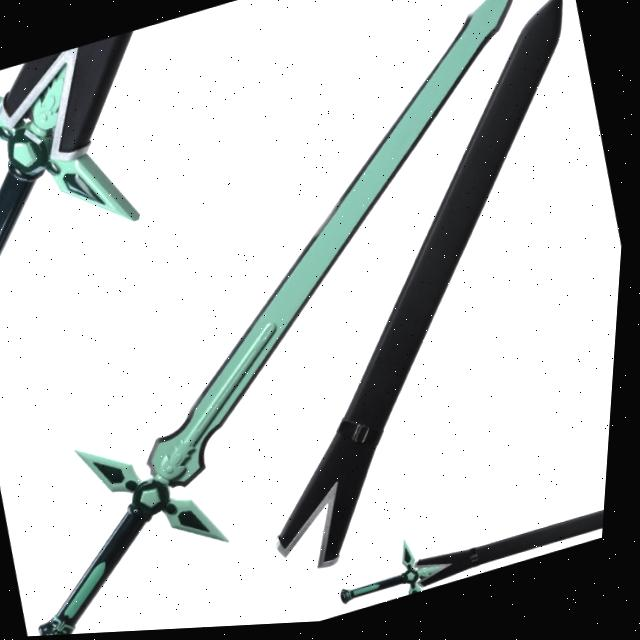knife: (0, 0, 640, 640), (0, 27, 194, 311), (335, 468, 614, 619)
